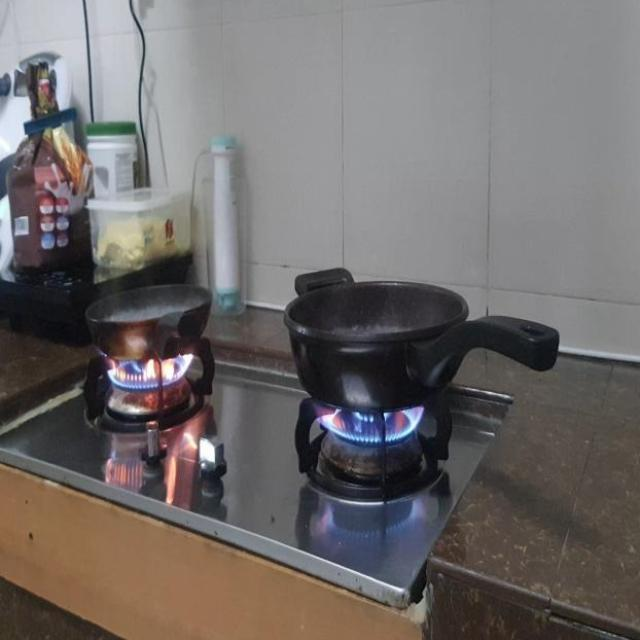smoke: (318, 395, 429, 450), (102, 341, 195, 398)
